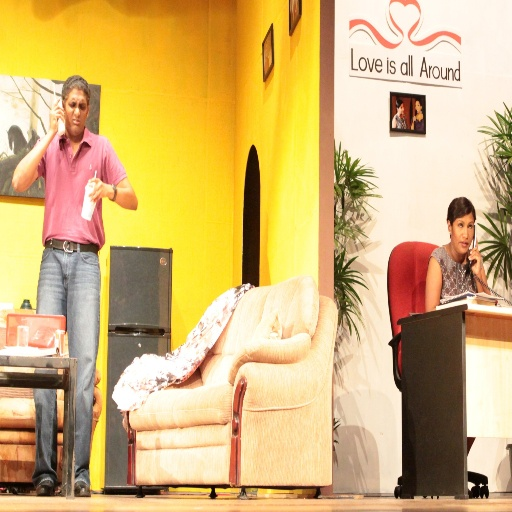hand: (87, 173, 107, 202), (50, 93, 64, 133), (468, 235, 481, 276)
